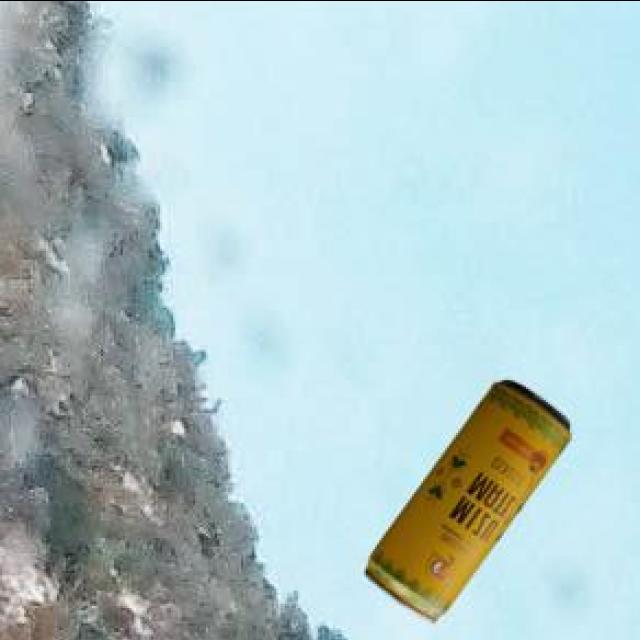logam: (369, 382, 573, 624)
